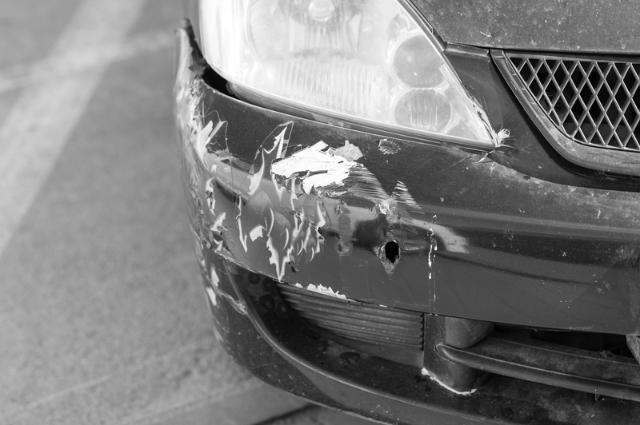Bumper: (161, 105, 408, 356)
